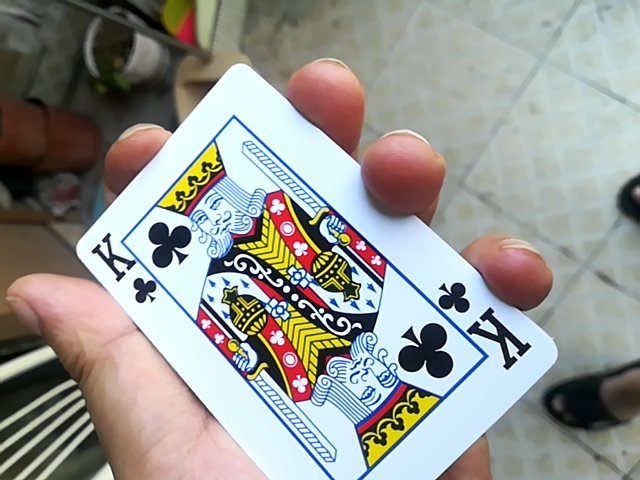mh k: (66, 62, 552, 480)
